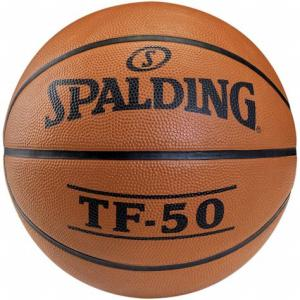Basket: (4, 2, 296, 298)
